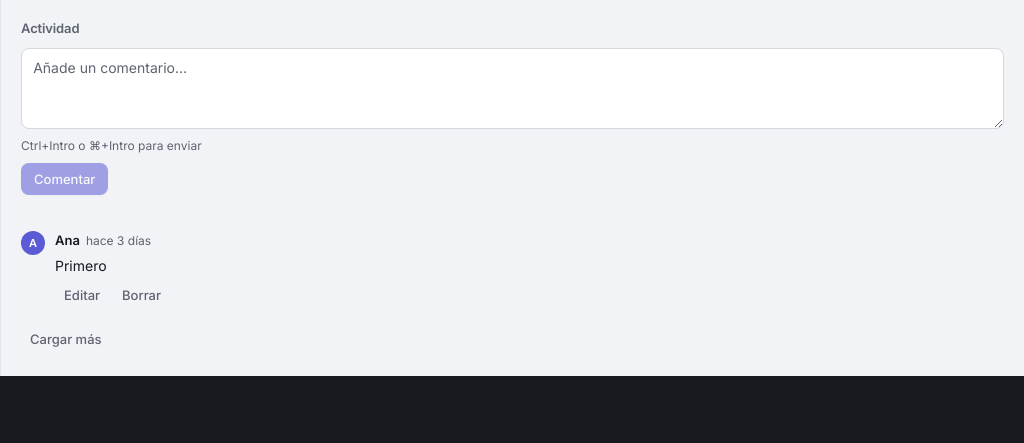
Test case: PanelActividad › carga la página siguiente con «Cargar más»
Expected: the text "Primero" is shown, [55,257,107,274]
Click the button "Cargar más": [66, 340] box [21,324,111,356]
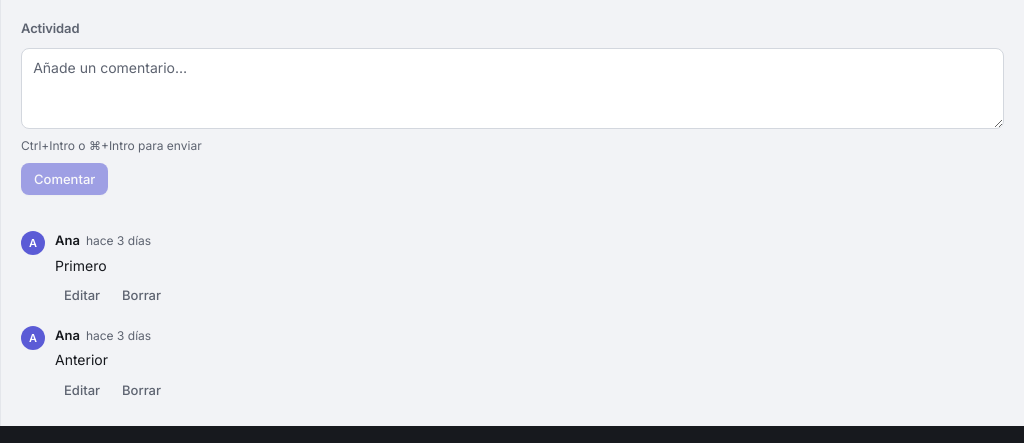
Result: the text "Anterior" is shown at [55,351,108,368]
Result: the button "Cargar más" is gone
